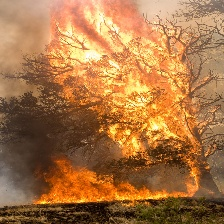fire: (51, 5, 204, 158), (30, 160, 200, 199)
smoke: (1, 3, 48, 87), (3, 160, 28, 206)
